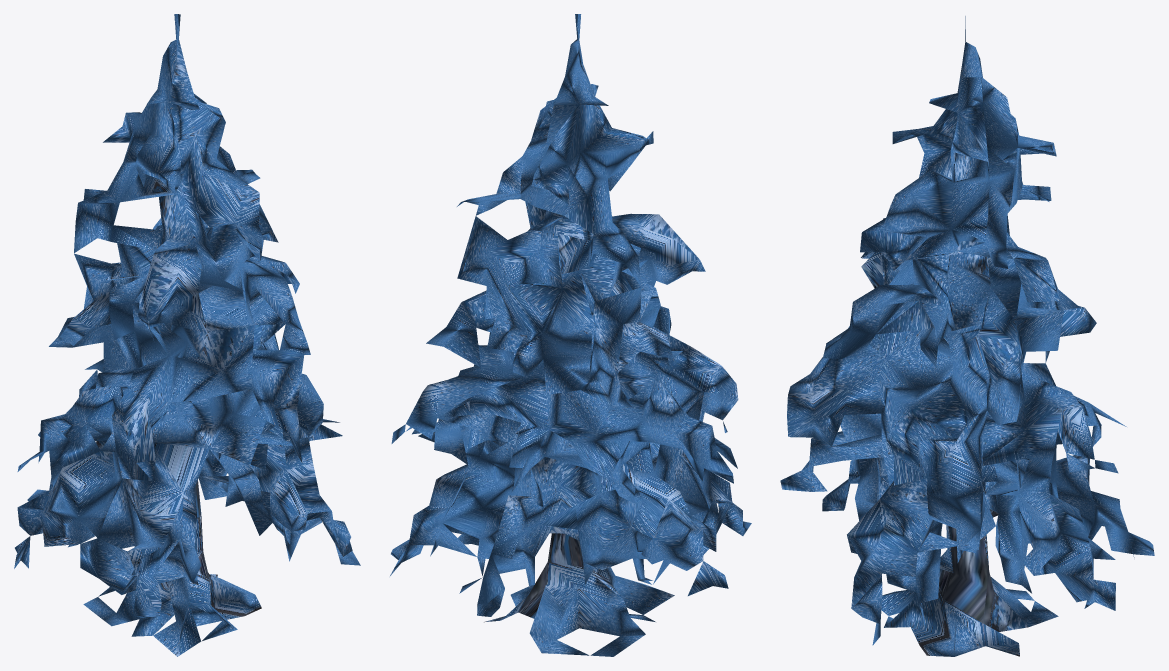
File: snow-pine.glb
The picture shows the model from 3 angles, left to right: view 1: azimuth 30°, elevation 25°; view 2: azimuth 150°, elevation 25°; view 3: azimuth 270°, elevation 25°; orthographic projection.
Bounding box in the file's own units: 1.05 × 1.87 × 1.04.
1 material, 1 textured.
